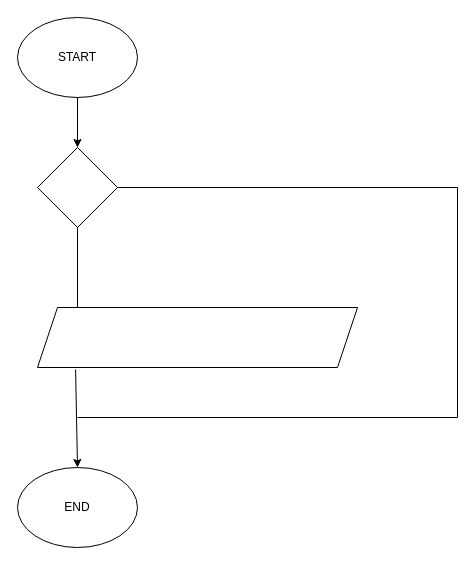
Image size: 476x565. Some labels were removed from this diagram. Each missing label, with the box of its shape:
COUT $$ U_0 = 1; U_{n+1} = \frac{U_n}{n + 1} $$: (36, 306, 358, 368)
FOR 0 <= 10: (36, 146, 118, 228)
